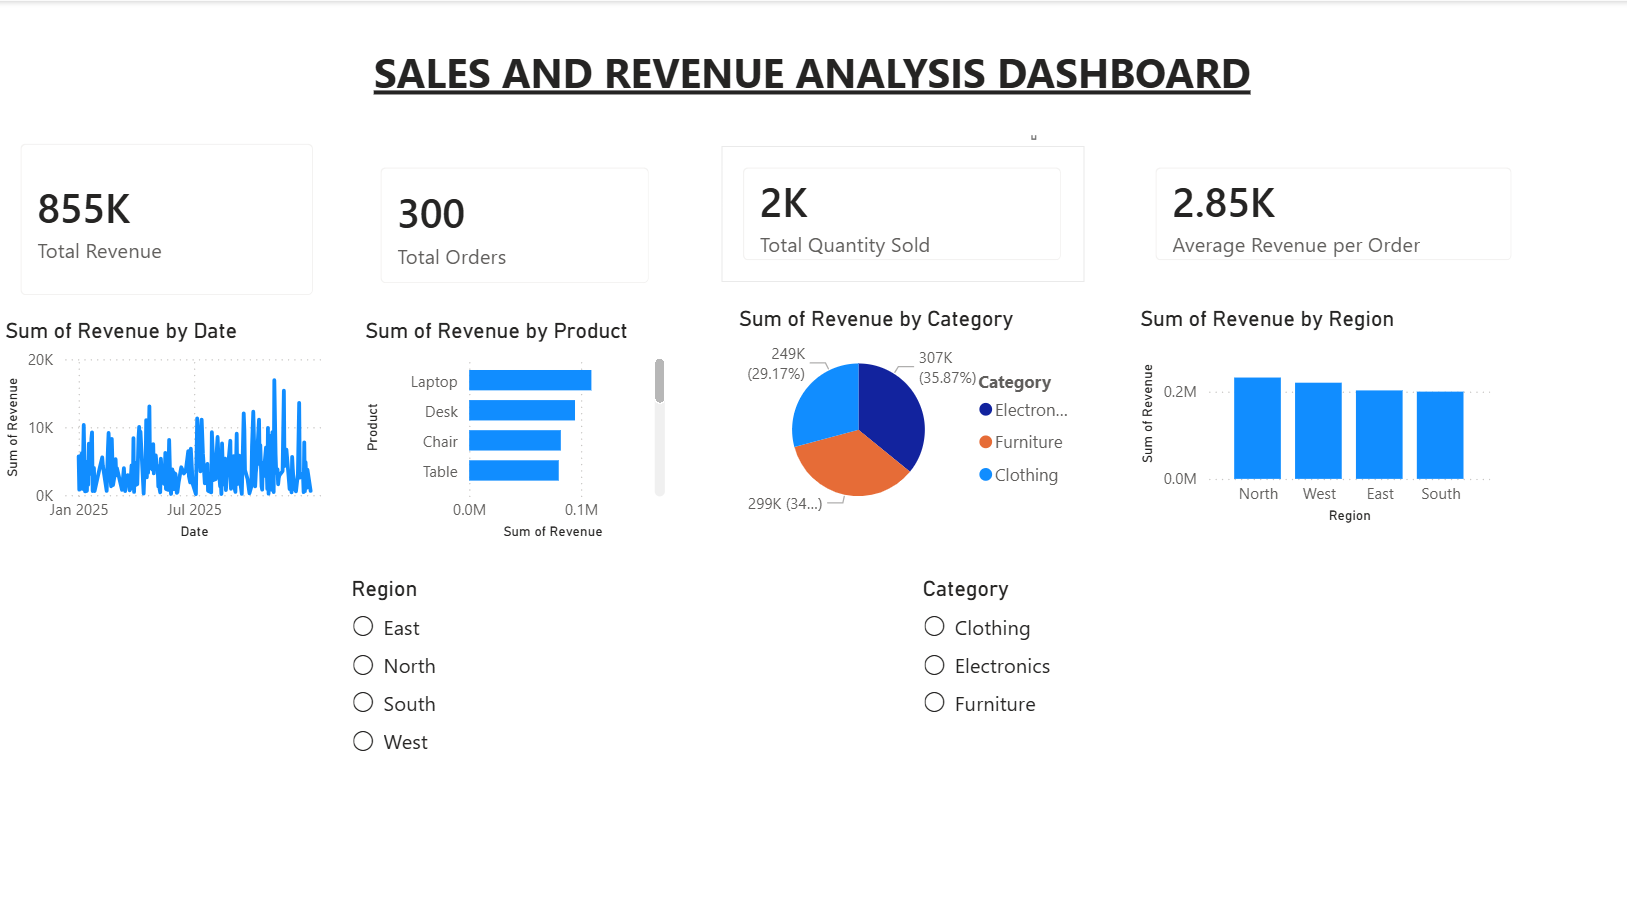

This screenshot's page, from the dashboard's own definition file:
{"tool":"powerbi","page":{"name":"Page 1","canvas":[1280,720],"ordinal":0},"visuals":[{"type":"cardVisual","fields":{"Data":["Sum(SalesData.Revenue)"]},"box":[0,95.3,264.3,153.3],"z":0},{"type":"cardVisual","fields":{"Data":["Sum(SalesData.Quantity)"]},"box":[567.9,114,284.9,107.1],"z":1000},{"type":"cardVisual","fields":{"Data":["Avg(SalesData.Revenue)"]},"box":[892.1,114,314.4,107.1],"z":2000},{"type":"lineChart","fields":{"Y":["Sum(SalesData.Revenue)"],"Category":["SalesData.Date"]},"box":[0,248.6,272.2,179.8],"z":3000},{"type":"cardVisual","fields":{"Data":["CountNonNull(SalesData.OrderID)"]},"box":[283,114,245.6,125.8],"z":4000},{"type":"clusteredBarChart","fields":{"Category":["SalesData.Product"],"Y":["Sum(SalesData.Revenue)"]},"box":[283,248.6,245.6,179.8],"z":5000},{"type":"pieChart","fields":{"Category":["SalesData.Category"],"Y":["Sum(SalesData.Revenue)"]},"box":[576.7,239.7,279,175.9],"z":6000},{"type":"clusteredColumnChart","fields":{"Category":["SalesData.Region"],"Y":["Sum(SalesData.Revenue)"]},"box":[892.1,239.7,284.9,175.9],"z":7000},{"type":"listSlicer","fields":{"Values":["SalesData.Region"]},"box":[272.2,452,341.9,186.7],"z":7001},{"type":"listSlicer","fields":{"Values":["SalesData.Category"]},"box":[721.2,452,341.9,186.7],"z":7002},{"type":"textbox","box":[228.9,29.5,820.4,75.7],"z":7003}]}

Visuals, with their boxes in screenshot pixels (x1, y1, x2, y2), scaled from the page's 1280x720 canvas onto the 1627x916 screenshot:
cardVisual - Sum(SalesData.Revenue): (0,121,336,316)
cardVisual - Sum(SalesData.Quantity): (722,145,1084,281)
cardVisual - Avg(SalesData.Revenue): (1134,145,1534,281)
lineChart - Sum(SalesData.Revenue) x SalesData.Date: (0,316,346,545)
cardVisual - CountNonNull(SalesData.OrderID): (360,145,672,305)
clusteredBarChart - SalesData.Product x Sum(SalesData.Revenue): (360,316,672,545)
pieChart - SalesData.Category x Sum(SalesData.Revenue): (733,305,1088,529)
clusteredColumnChart - SalesData.Region x Sum(SalesData.Revenue): (1134,305,1496,529)
listSlicer - SalesData.Region: (346,575,781,813)
listSlicer - SalesData.Category: (917,575,1351,813)
textbox: (291,38,1334,134)
